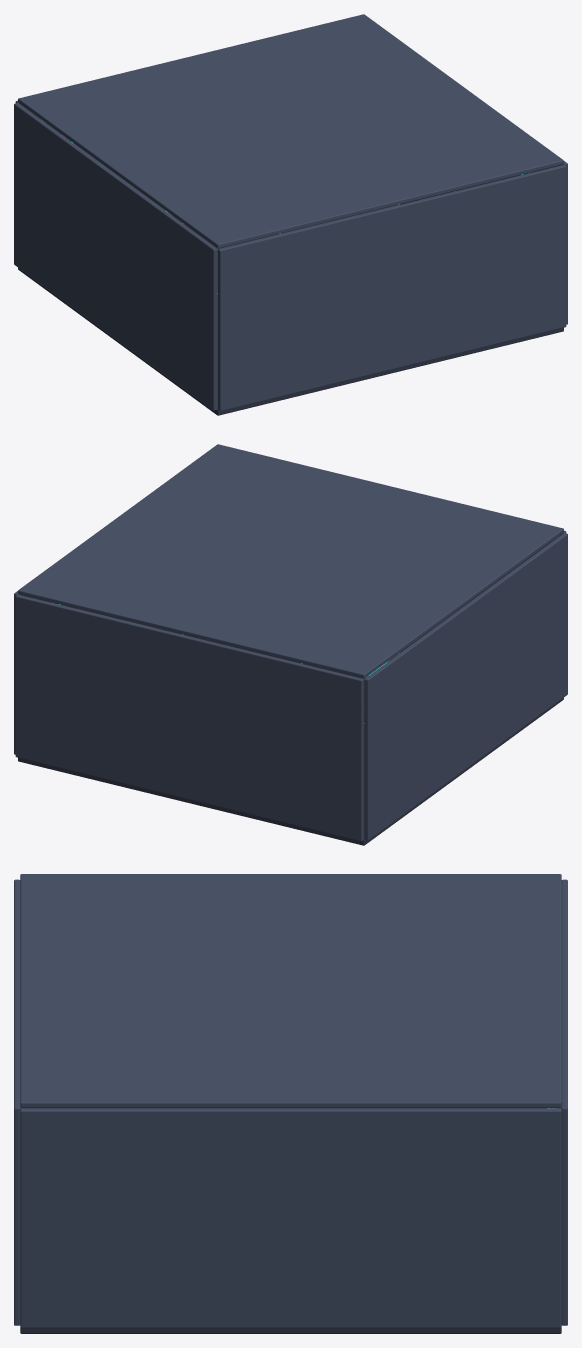
Rendered from map.glb.
3 renders of one model, top to bottom at view 1: azimuth 30°, elevation 25°; view 2: azimuth 150°, elevation 25°; view 3: azimuth 270°, elevation 25°, orthographic. The views are drawn at different scales.
Parts seen in each view (by area): view 1: MAP_Ceiling, MAP_BackWall, MAP_LeftWall, MAP_Floor; view 2: MAP_Ceiling, MAP_FrontWall, MAP_LeftWall, MAP_Floor; view 3: MAP_Ceiling, MAP_RightWall, MAP_Floor, MAP_BackWall, MAP_FrontWall.
Boxes of the visible parts, bbox=[...] form: MAP_Ceiling: bbox=[18, 14, 563, 248]; MAP_BackWall: bbox=[218, 165, 566, 411]; MAP_LeftWall: bbox=[14, 103, 217, 410]; MAP_Floor: bbox=[18, 204, 563, 415]; MAP_Ceiling: bbox=[18, 444, 563, 678]; MAP_FrontWall: bbox=[15, 595, 363, 841]; MAP_LeftWall: bbox=[364, 533, 567, 840]; MAP_Floor: bbox=[18, 634, 563, 845]; MAP_Ceiling: bbox=[20, 874, 561, 1107]; MAP_RightWall: bbox=[20, 1108, 561, 1328]; MAP_Floor: bbox=[20, 1108, 561, 1333]; MAP_BackWall: bbox=[14, 879, 20, 1325]; MAP_FrontWall: bbox=[561, 879, 567, 1325].
Bounding box in the file's own units: 18.42 × 8.51 × 18.42.
